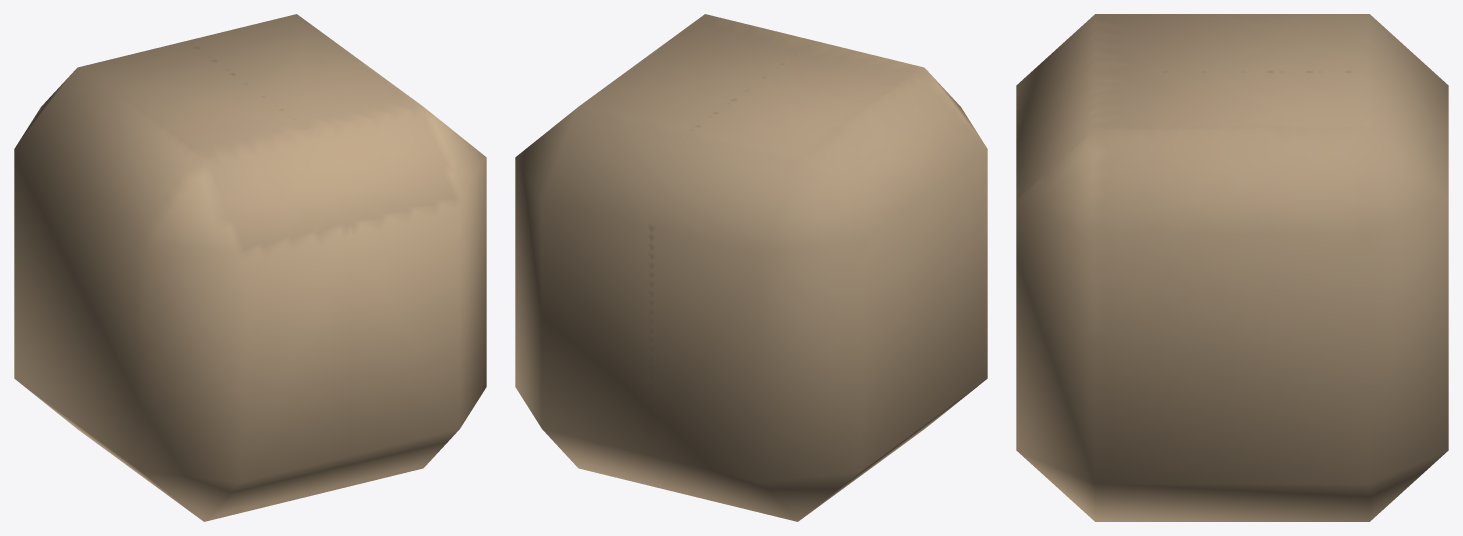
Rendered from hand.obj.
3 renders of one model, left to right at view 1: azimuth 30°, elevation 25°; view 2: azimuth 150°, elevation 25°; view 3: azimuth 270°, elevation 25°, orthographic. The views are drawn at different scales.
Visible parts, largest first — view 1: Cube.003_Cube.012; view 2: Cube.003_Cube.012; view 3: Cube.003_Cube.012.
Part boxes in pixels (box(x1,y1,x2,y2)): Cube.003_Cube.012: box(14, 14, 486, 521); Cube.003_Cube.012: box(515, 14, 987, 521); Cube.003_Cube.012: box(1016, 14, 1448, 521).
Bounding box in the file's own units: 0.5726 × 0.5726 × 0.5726.
